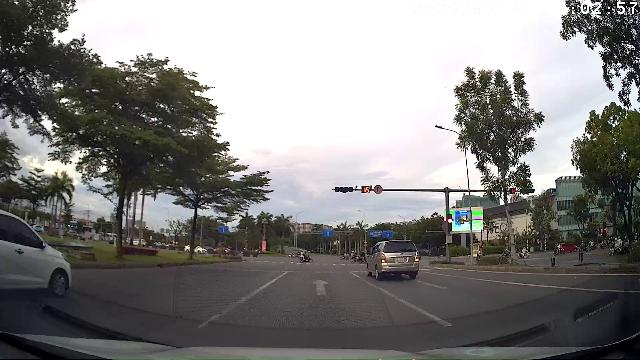123b-cam-re-phai: (374, 185, 383, 194)
